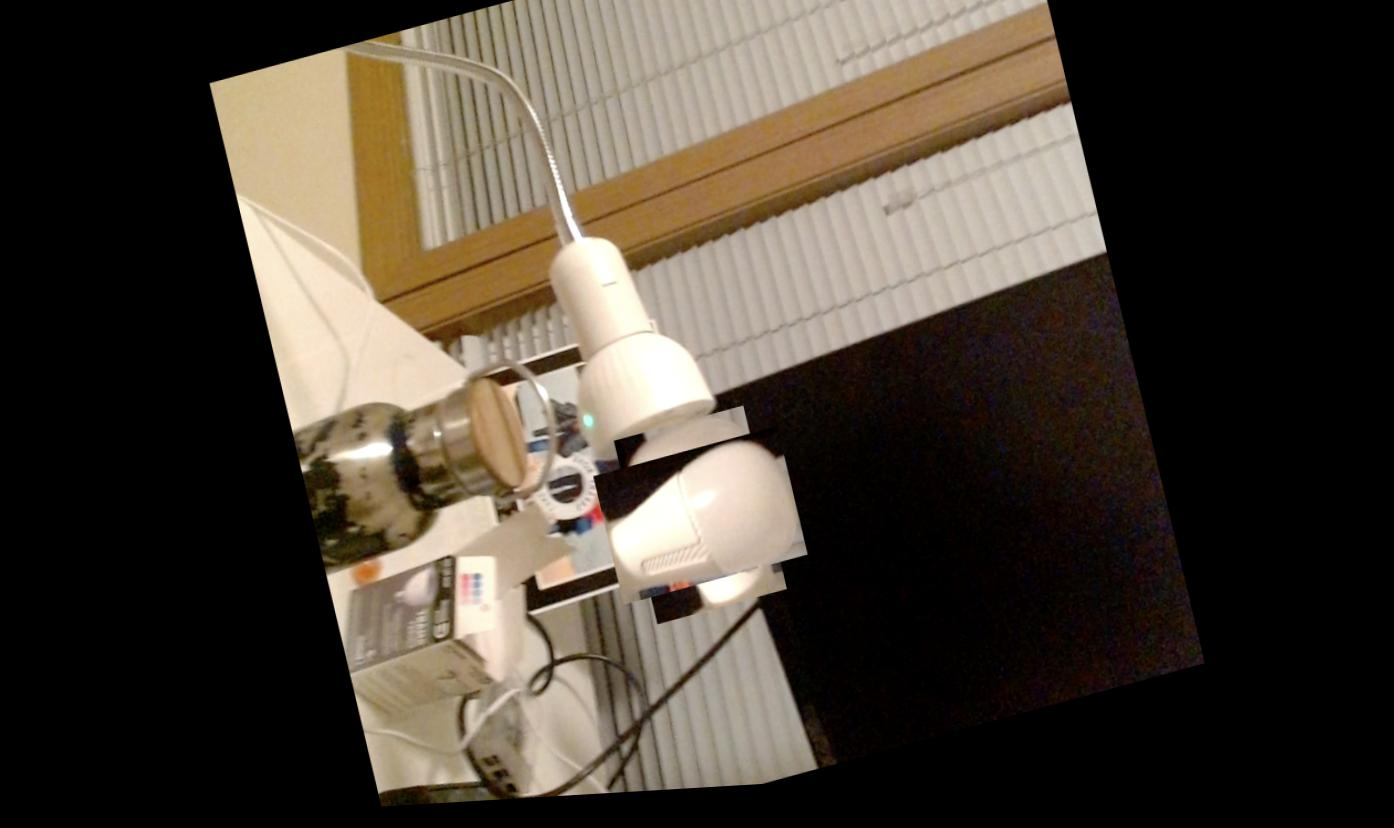Fan: (599, 423, 793, 623)
